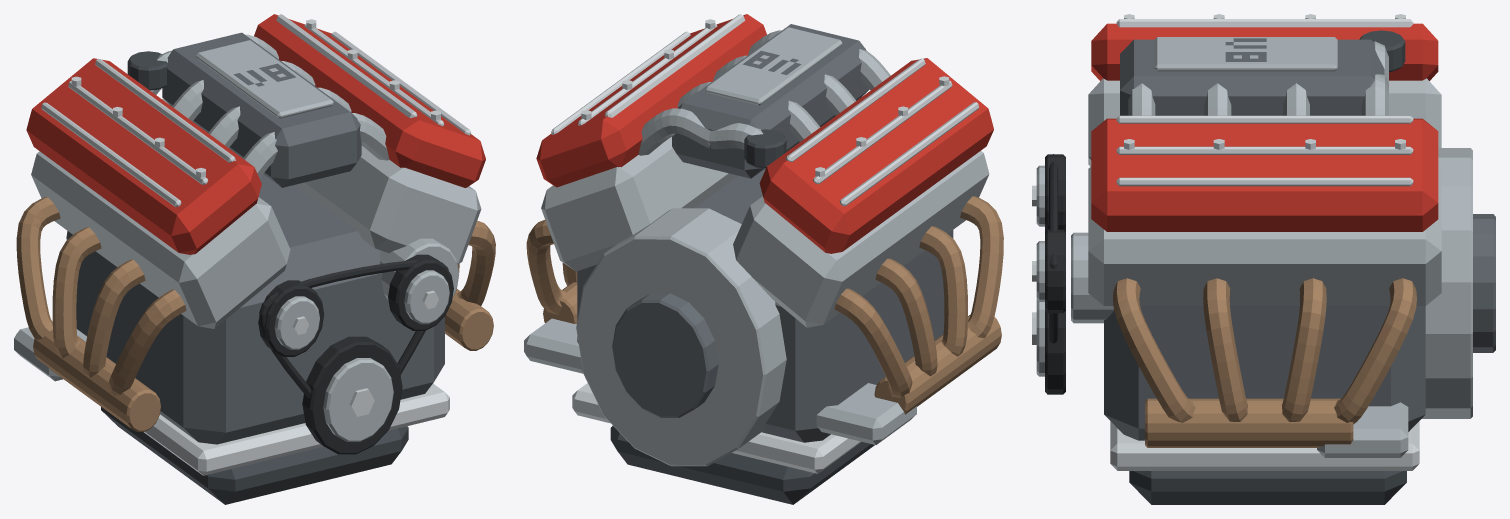
Rendered from v8engine.glb.
3 views of the same model, side by side, from view 1: azimuth 30°, elevation 25°; view 2: azimuth 150°, elevation 25°; view 3: azimuth 270°, elevation 25° (orthographic). The views are drawn at different scales.
Visible parts, largest first — view 1: V8Engine; view 2: V8Engine; view 3: V8Engine.
Part boxes in pixels (x1,y1,x2,y2): V8Engine: (14, 14, 495, 504); V8Engine: (524, 14, 1003, 504); V8Engine: (1032, 14, 1495, 504).
Bounding box in the file's own units: 1.96 × 1.92 × 1.94.
